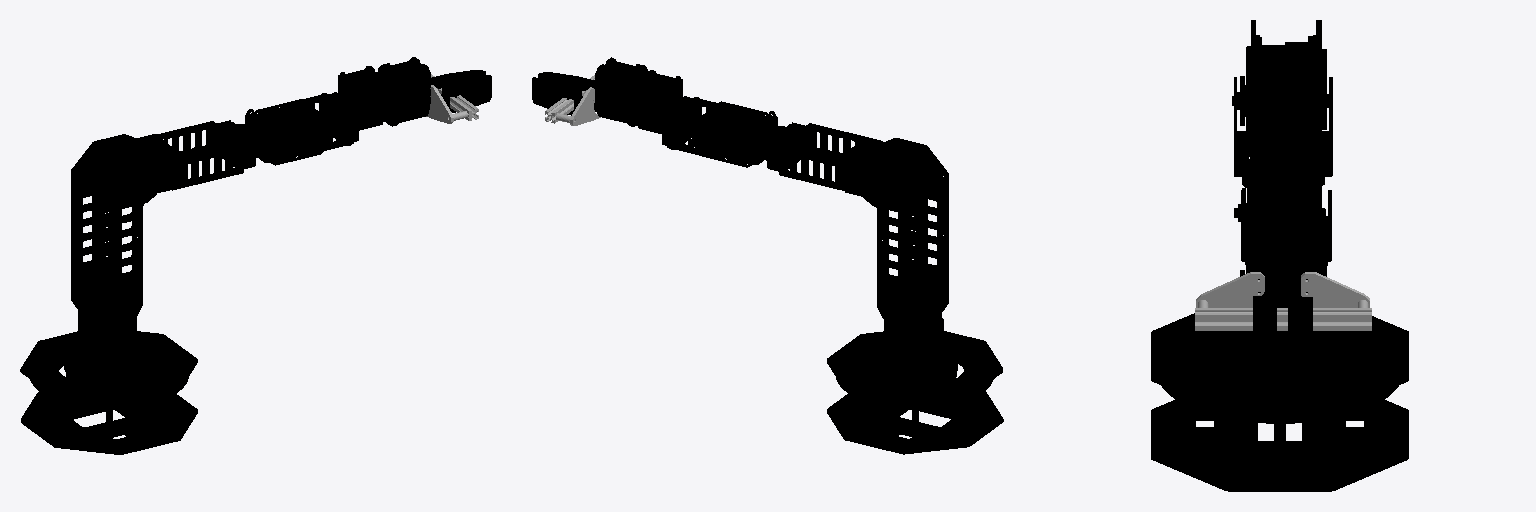
The robot description file, URDF, robot "WIDOWXL":
<?xml version="1.0" encoding="utf-8"?>
<!-- =================================================================================== -->
<!-- |    This document was autogenerated by xacro from arm2urdf.xacro                 | -->
<!-- |    EDITING THIS FILE BY HAND IS NOT RECOMMENDED                                 | -->
<!-- =================================================================================== -->
<robot name="WIDOWXL">
  <material name="silver_default">
    <color rgba="0.700 0.700 0.700 1.000"/>
  </material>
  <material name="black">
    <color rgba="0.0 0.0 0.0 1.000"/>
  </material>
  <transmission name="Rev36_tran">
    <type>transmission_interface/SimpleTransmission</type>
    <joint name="joint_1">
      <hardwareInterface>hardware_interface/EffortJointInterface</hardwareInterface>
    </joint>
    <actuator name="Rev36_actr">
      <hardwareInterface>hardware_interface/EffortJointInterface</hardwareInterface>
      <mechanicalReduction>1</mechanicalReduction>
    </actuator>
  </transmission>
  <transmission name="Rev38_tran">
    <type>transmission_interface/SimpleTransmission</type>
    <joint name="joint_2">
      <hardwareInterface>hardware_interface/EffortJointInterface</hardwareInterface>
    </joint>
    <actuator name="Rev38_actr">
      <hardwareInterface>hardware_interface/EffortJointInterface</hardwareInterface>
      <mechanicalReduction>1</mechanicalReduction>
    </actuator>
  </transmission>
  <transmission name="Rev39_tran">
    <type>transmission_interface/SimpleTransmission</type>
    <joint name="joint_3">
      <hardwareInterface>hardware_interface/EffortJointInterface</hardwareInterface>
    </joint>
    <actuator name="Rev39_actr">
      <hardwareInterface>hardware_interface/EffortJointInterface</hardwareInterface>
      <mechanicalReduction>1</mechanicalReduction>
    </actuator>
  </transmission>
  <transmission name="Rev40_tran">
    <type>transmission_interface/SimpleTransmission</type>
    <joint name="joint_4">
      <hardwareInterface>hardware_interface/EffortJointInterface</hardwareInterface>
    </joint>
    <actuator name="Rev40_actr">
      <hardwareInterface>hardware_interface/EffortJointInterface</hardwareInterface>
      <mechanicalReduction>1</mechanicalReduction>
    </actuator>
  </transmission>
  <transmission name="Rev41_tran">
    <type>transmission_interface/SimpleTransmission</type>
    <joint name="joint_5">
      <hardwareInterface>hardware_interface/EffortJointInterface</hardwareInterface>
    </joint>
    <actuator name="Rev41_actr">
      <hardwareInterface>hardware_interface/EffortJointInterface</hardwareInterface>
      <mechanicalReduction>1</mechanicalReduction>
    </actuator>
  </transmission>
  <transmission name="Slider44_tran">
    <type>transmission_interface/SimpleTransmission</type>
    <joint name="gripper_prismatic_joint_1">
      <hardwareInterface>hardware_interface/EffortJointInterface</hardwareInterface>
    </joint>
    <actuator name="Slider44_actr">
      <hardwareInterface>hardware_interface/EffortJointInterface</hardwareInterface>
      <mechanicalReduction>1</mechanicalReduction>
    </actuator>
  </transmission>
  <transmission name="Slider45_tran">
    <type>transmission_interface/SimpleTransmission</type>
    <joint name="gripper_prismatic_joint_2">
      <hardwareInterface>hardware_interface/EffortJointInterface</hardwareInterface>
    </joint>
    <actuator name="Slider45_actr">
      <hardwareInterface>hardware_interface/EffortJointInterface</hardwareInterface>
      <mechanicalReduction>1</mechanicalReduction>
    </actuator>
  </transmission>
  <gazebo>
    <plugin filename="libgazebo_ros_control.so" name="gazebo_ros_control">
      <robotNamespace>/WIDOWXL</robotNamespace>
    </plugin>
  </gazebo>
  <gazebo reference="base_link">
    <material>Gazebo/Silver</material>
    <mu1>0.2</mu1>
    <mu2>0.2</mu2>
    <selfCollide>true</selfCollide>
  </gazebo>
  <gazebo reference="shoulder_link">
    <material>Gazebo/Silver</material>
    <mu1>0.2</mu1>
    <mu2>0.2</mu2>
    <selfCollide>true</selfCollide>
  </gazebo>
  <gazebo reference="biceps_link">
    <material>Gazebo/Silver</material>
    <mu1>0.2</mu1>
    <mu2>0.2</mu2>
    <selfCollide>true</selfCollide>
  </gazebo>
  <gazebo reference="forearm_link">
    <material>Gazebo/Silver</material>
    <mu1>0.2</mu1>
    <mu2>0.2</mu2>
    <selfCollide>true</selfCollide>
  </gazebo>
  <gazebo reference="wrist_1_link">
    <material>Gazebo/Silver</material>
    <mu1>0.2</mu1>
    <mu2>0.2</mu2>
    <selfCollide>true</selfCollide>
  </gazebo>
  <gazebo reference="wrist_2_link">
    <material>Gazebo/Silver</material>
    <mu1>0.2</mu1>
    <mu2>0.2</mu2>
    <selfCollide>true</selfCollide>
  </gazebo>
  <gazebo reference="gripper_rail_link">
    <material>Gazebo/Silver</material>
    <mu1>0.2</mu1>
    <mu2>0.2</mu2>
    <selfCollide>true</selfCollide>
  </gazebo>
  <gazebo reference="gripper_right_link">
    <material>Gazebo/Silver</material>
    <mu1>0.2</mu1>
    <mu2>0.2</mu2>
    <selfCollide>true</selfCollide>
  </gazebo>
  <gazebo reference="gripper_left_link">
    <material>Gazebo/Silver</material>
    <mu1>0.2</mu1>
    <mu2>0.2</mu2>
    <selfCollide>true</selfCollide>
  </gazebo>
  <!--xacro:include filename="$(find realsense2_description)/urdf/_d435.urdf.xacro" /-->
  <!--link name="base_world">

</link-->
  <!--xacro:sensor_d435 name="camera" topics_ns="camera" parent="wrist_2_link" publish_pointcloud="true">
  <origin xyz="0.01 0 -0.02" rpy="0 1.5708 0" />
</xacro:sensor_d435-->
  <link name="base_link">
    <inertial>
      <origin rpy="0 0 0" xyz="0 0 0"/>
      <mass value="10"/>
      <inertia ixx="0.0377" ixy="-0.0" ixz="0.0" iyy="0.06" iyz="0" izz="0.0376"/>
    </inertial>
    <visual>
      <origin rpy="0 0 0" xyz="0 0 0"/>
      <geometry>
        <mesh filename="package://arm/meshes/base_link.stl" scale="0.001 0.001 0.001"/>
      </geometry>
      <material name="black"/>
    </visual>
    <collision>
      <origin rpy="0 0 0" xyz="0 0 0"/>
      <geometry>
        <mesh filename="package://arm/meshes/base_link.stl" scale="0.001 0.001 0.001"/>
      </geometry>
    </collision>
  </link>
  <link name="shoulder_link">
    <inertial>
      <origin rpy="0 0 0" xyz="0 0 -0.05"/>
      <mass value="0.1569876561513581"/>
      <inertia ixx="8.4e-05" ixy="0.0" ixz="-0.0" iyy="0.000167" iyz="-0.0" izz="9.5e-05"/>
    </inertial>
    <visual>
      <origin rpy="0 0 0" xyz="0 0 -0.05"/>
      <geometry>
        <mesh filename="package://arm/meshes/shoulder_link__4__1.stl" scale="0.001 0.001 0.001"/>
      </geometry>
      <material name="black"/>
    </visual>
    <collision>
      <origin rpy="0 0 0" xyz="0 0 -0.05"/>
      <geometry>
        <mesh filename="package://arm/meshes/shoulder_link__4__1.stl" scale="0.001 0.001 0.001"/>
      </geometry>
    </collision>
  </link>
  <link name="biceps_link">
    <inertial>
      <origin rpy="0 0 0" xyz="0 0 -0.087"/>
      <mass value="0.1569876561513581"/>
      <inertia ixx="0.002465" ixy="-3e-06" ixz="3e-06" iyy="0.000388" iyz="-0.000506" izz="0.002305"/>
    </inertial>
    <visual>
      <origin rpy="0 0 0" xyz="0 0 -0.087"/>
      <geometry>
        <mesh filename="package://arm/meshes/biceps_link_1.stl" scale="0.001 0.001 0.001"/>
      </geometry>
      <material name="black"/>
    </visual>
    <collision>
      <origin rpy="0 0 0" xyz="0 0 -0.087"/>
      <geometry>
        <mesh filename="package://arm/meshes/biceps_link_1.stl" scale="0.001 0.001 0.001"/>
      </geometry>
    </collision>
  </link>
  <link name="forearm_link">
    <inertial>
      <origin rpy="0 0 0" xyz="-0.05 0 -0.232"/>
      <mass value="0.1569876561513581"/>
      <inertia ixx="0.000327" ixy="-0.0" ixz="4e-06" iyy="0.000357" iyz="0.0" izz="7.5e-05"/>
    </inertial>
    <visual>
      <origin rpy="0 0 0" xyz="-0.05 0 -0.232"/>
      <geometry>
        <mesh filename="package://arm/meshes/forearm_link_1.stl" scale="0.001 0.001 0.001"/>
      </geometry>
      <material name="black"/>
    </visual>
    <collision>
      <origin rpy="0 0 0" xyz="-0.05 0 -0.232"/>
      <geometry>
        <mesh filename="package://arm/meshes/forearm_link_1.stl" scale="0.001 0.001 0.001"/>
      </geometry>
    </collision>
  </link>
  <link name="wrist_1_link">
    <inertial>
      <origin rpy="0 0 0" xyz="-0.2 0 -0.232"/>
      <mass value="0.14997568515174237"/>
      <inertia ixx="6.4e-05" ixy="-0.0" ixz="-0.0" iyy="5.2e-05" iyz="-9e-06" izz="4.6e-05"/>
    </inertial>
    <visual>
      <origin rpy="0 0 0" xyz="-0.2 0 -0.232"/>
      <geometry>
        <mesh filename="package://arm/meshes/wrist_1_1.stl" scale="0.001 0.001 0.001"/>
      </geometry>
      <material name="black"/>
    </visual>
    <collision>
      <origin rpy="0 0 0" xyz="-0.2 0 -0.232"/>
      <geometry>
        <mesh filename="package://arm/meshes/wrist_1_1.stl" scale="0.001 0.001 0.001"/>
      </geometry>
    </collision>
  </link>
  <link name="wrist_2_link">
    <inertial>
      <origin rpy="0 0 0" xyz="-0.28 0.0 -0.232"/>
      <mass value="0.12757912716999015"/>
      <inertia ixx="4.1e-05" ixy="-0.0" ixz="-0.0" iyy="2.4e-05" iyz="-1e-06" izz="3.2e-05"/>
    </inertial>
    <visual>
      <origin rpy="0 0 0" xyz="-0.28 0.0 -0.232"/>
      <geometry>
        <mesh filename="package://arm/meshes/wrist_2_1.stl" scale="0.001 0.001 0.001"/>
      </geometry>
      <material name="black"/>
    </visual>
    <collision>
      <origin rpy="0 0 0" xyz="-0.28 0.0 -0.232"/>
      <geometry>
        <mesh filename="package://arm/meshes/wrist_2_1.stl" scale="0.001 0.001 0.001"/>
      </geometry>
    </collision>
  </link>
  <link name="gripper_rail_link">
    <inertial>
      <origin rpy="0 0 0" xyz="-0.318 0 -0.232"/>
      <mass value="0.02867149681670596"/>
      <inertia ixx="4e-06" ixy="-0.0" ixz="0.0" iyy="2.8e-05" iyz="0.0" izz="2.6e-05"/>
    </inertial>
    <visual>
      <origin rpy="0 0 0" xyz="-0.318 0 -0.232"/>
      <geometry>
        <mesh filename="package://arm/meshes/rail_fing_supp_1.stl" scale="0.001 0.001 0.001"/>
      </geometry>
      <material name="silver_default"/>
    </visual>
    <collision>
      <origin rpy="0 0 0" xyz="-0.318 0 -0.232"/>
      <geometry>
        <mesh filename="package://arm/meshes/rail_fing_supp_1.stl" scale="0.001 0.001 0.001"/>
      </geometry>
    </collision>
  </link>
  <link name="gripper_left_link">
    <inertial>
      <origin rpy="0 0 0" xyz="-0.341 -0.023 -0.232"/>
      <mass value="0.009"/>
      <inertia ixx="3e-06" ixy="0.0" ixz="0.0" iyy="3e-06" iyz="0.0" izz="1e-06"/>
    </inertial>
    <visual>
      <origin rpy="0 0 0" xyz="-0.341 -0.023 -0.232"/>
      <geometry>
        <mesh filename="package://arm/meshes/finger.stl" scale="0.001 0.001 0.001"/>
      </geometry>
      <material name="black"/>
    </visual>
    <collision>
      <origin rpy="0 0 0" xyz="-0.341 -0.023 -0.232"/>
      <geometry>
        <mesh filename="package://arm/meshes/finger.stl" scale="0.001 0.001 0.001"/>
      </geometry>
    </collision>
  </link>
  <link name="gripper_right_link">
    <inertial>
      <origin rpy="-3.1415 0 0" xyz="-0.341 0.023 0.231"/>
      <mass value="0.009"/>
      <inertia ixx="3e-06" ixy="0.0" ixz="0.0" iyy="3e-06" iyz="0.0" izz="1e-06"/>
    </inertial>
    <visual>
      <origin rpy="-3.1415 0 0" xyz="-0.341 0.023 0.231"/>
      <geometry>
        <mesh filename="package://arm/meshes/finger.stl" scale="0.001 0.001 0.001"/>
      </geometry>
      <material name="black"/>
    </visual>
    <collision>
      <origin rpy="-3.1415 0 0" xyz="-0.341 0.023 0.231"/>
      <geometry>
        <mesh filename="package://arm/meshes/finger.stl" scale="0.001 0.001 0.001"/>
      </geometry>
    </collision>
  </link>
  <!--joint name="base_joint" type="fixed">
  <parent link="base_world"/>
  <child link="base_link"/>
</joint-->
  <joint name="joint_1" type="revolute">
    <origin rpy="0 0 0" xyz="0 0 0.05"/>
    <parent link="base_link"/>
    <child link="shoulder_link"/>
    <axis xyz="0.0 0.0 1.0"/>
    <limit effort="100" lower="-3.1415" upper="3.1415" velocity="1.571"/>
  </joint>
  <joint name="joint_2" type="revolute">
    <origin rpy="0 0 0" xyz="0 0 0.04"/>
    <parent link="shoulder_link"/>
    <child link="biceps_link"/>
    <axis xyz="0.0 1.0 0.0"/>
    <limit effort="100" lower="-1.571" upper="1.571" velocity="1.571"/>
  </joint>
  <joint name="joint_3" type="revolute">
    <origin rpy="0 0 0" xyz="0.05 0 0.145"/>
    <parent link="biceps_link"/>
    <child link="forearm_link"/>
    <axis xyz="0.0 1.0 0.0"/>
    <limit effort="100" lower="-1.571" upper="1.571" velocity="1.571"/>
  </joint>
  <joint name="joint_4" type="revolute">
    <origin rpy="0 0 0" xyz="0.15 0 0"/>
    <parent link="forearm_link"/>
    <child link="wrist_1_link"/>
    <axis xyz="0.0 1.0 0.0"/>
    <limit effort="100" lower="-1.745" upper="1.745" velocity="1.571"/>
  </joint>
  <joint name="joint_5" type="revolute">
    <origin rpy="0 0 0" xyz="0.08 0 0"/>
    <parent link="wrist_1_link"/>
    <child link="wrist_2_link"/>
    <axis xyz="1.0 0.0 0.0"/>
    <limit effort="100" lower="-2.617" upper="2.617" velocity="1.571"/>
  </joint>
  <joint name="Rigid43" type="fixed">
    <origin rpy="0 0 0" xyz="0.04 0 0"/>
    <parent link="wrist_2_link"/>
    <child link="gripper_rail_link"/>
  </joint>
  <joint name="gripper_prismatic_joint_1" type="prismatic">
    <origin rpy="0 0 0" xyz="0.023 0.005 0"/>
    <parent link="gripper_rail_link"/>
    <child link="gripper_left_link"/>
    <axis xyz="0.0 1.0 0"/>
    <limit effort="100" lower="0" upper="0.024" velocity="0.5"/>
  </joint>
  <joint name="gripper_prismatic_joint_2" type="prismatic">
    <origin rpy="0 0 0" xyz="0.023 -0.005 0"/>
    <parent link="gripper_rail_link"/>
    <child link="gripper_right_link"/>
    <axis xyz="0.0 -1.0 0"/>
    <limit effort="100" lower="0" upper="0.024" velocity="0.5"/>
  </joint>
</robot>

--- Facts derived from the render (not from the file) ---
3 views of the same robot in one strip: view 1: azimuth 30°, elevation 25°; view 2: azimuth 150°, elevation 25°; view 3: azimuth 270°, elevation 25° (orthographic).
Robot: WIDOWXL — 9 links, 8 joints (5 revolute, 2 prismatic, 1 fixed); root link base_link; default pose: every joint at zero.
Links seen in each view (by area): view 1: biceps_link, base_link, forearm_link, shoulder_link, wrist_1_link, wrist_2_link, gripper_rail_link, gripper_right_link; view 2: biceps_link, base_link, forearm_link, shoulder_link, wrist_1_link, wrist_2_link, gripper_rail_link, gripper_left_link, gripper_right_link; view 3: base_link, shoulder_link, biceps_link, gripper_rail_link, forearm_link, wrist_2_link, wrist_1_link, gripper_left_link, gripper_right_link.
Link boxes in pixels (<box>): biceps_link: <box>71,134,184,350</box>; base_link: <box>20,331,197,454</box>; forearm_link: <box>157,99,330,190</box>; shoulder_link: <box>46,332,170,391</box>; wrist_1_link: <box>303,66,388,152</box>; wrist_2_link: <box>378,57,430,126</box>; gripper_rail_link: <box>426,74,478,123</box>; gripper_right_link: <box>441,75,491,112</box>; biceps_link: <box>838,137,948,352</box>; base_link: <box>827,331,1003,454</box>; forearm_link: <box>694,101,882,191</box>; shoulder_link: <box>852,318,975,391</box>; wrist_1_link: <box>632,70,722,155</box>; wrist_2_link: <box>594,57,647,126</box>; gripper_rail_link: <box>545,75,600,125</box>; gripper_left_link: <box>532,77,582,115</box>; gripper_right_link: <box>538,72,594,90</box>; base_link: <box>1151,313,1408,491</box>; shoulder_link: <box>1186,331,1379,396</box>; biceps_link: <box>1232,20,1328,292</box>; gripper_rail_link: <box>1195,272,1371,330</box>; forearm_link: <box>1234,77,1332,221</box>; wrist_2_link: <box>1251,213,1306,307</box>; wrist_1_link: <box>1241,183,1331,279</box>; gripper_left_link: <box>1288,297,1312,368</box>; gripper_right_link: <box>1253,296,1276,368</box>.
Bounding box of the posed robot: 0.4582 × 0.1458 × 0.2719 m (x, y, z).
Meshes: 8 distinct files referenced, 9 mesh visuals loaded (8 binary STL).
